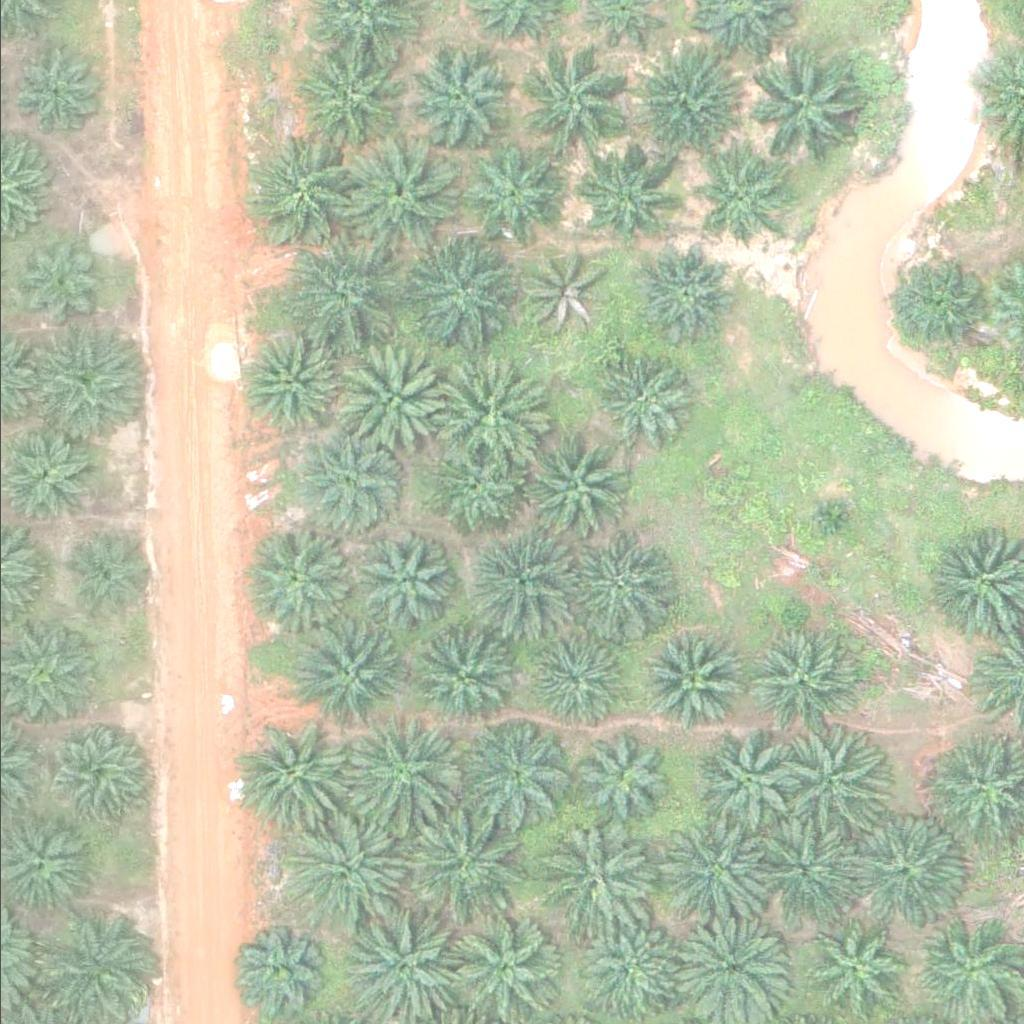Kelapa_Sawit: (675, 910, 789, 1023), (659, 819, 773, 932), (282, 813, 396, 926), (342, 710, 456, 823), (241, 526, 355, 639), (289, 613, 403, 726), (33, 907, 146, 1020), (542, 824, 655, 937), (463, 525, 576, 638), (242, 137, 355, 250), (752, 50, 865, 163), (34, 325, 148, 437), (458, 717, 572, 829), (520, 49, 634, 161), (838, 817, 951, 929), (409, 806, 522, 918), (232, 722, 345, 834), (782, 728, 895, 840), (519, 430, 632, 542), (436, 353, 549, 465), (338, 340, 451, 452), (283, 242, 396, 354), (404, 238, 517, 350), (342, 136, 455, 248), (285, 37, 398, 149), (624, 40, 737, 152), (5, 41, 106, 141), (801, 918, 902, 1018), (566, 729, 667, 829), (696, 730, 797, 830), (345, 531, 446, 631), (301, 432, 402, 532), (590, 346, 691, 446), (570, 142, 671, 242), (408, 44, 509, 144), (47, 721, 147, 821), (1, 426, 101, 526), (570, 920, 670, 1020), (754, 820, 854, 920), (746, 631, 846, 731), (637, 632, 737, 732), (521, 632, 621, 732), (405, 628, 505, 728), (561, 534, 661, 634), (239, 331, 339, 431), (889, 252, 989, 352), (636, 243, 736, 343), (467, 142, 567, 242), (63, 530, 151, 618), (430, 442, 518, 530), (15, 242, 103, 329), (228, 925, 316, 1012), (517, 252, 605, 339), (687, 154, 775, 241), (808, 489, 859, 539)
